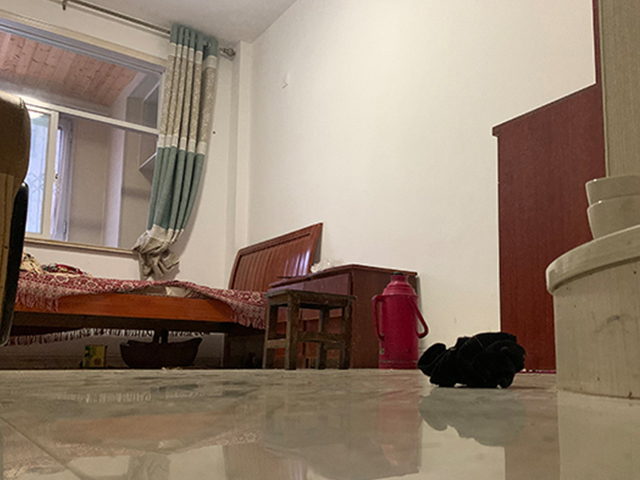bed: (10, 221, 323, 367)
cabinet: (268, 264, 385, 368)
curtain: (135, 18, 222, 285)
socks: (417, 331, 524, 388)
stool: (262, 287, 358, 371)
